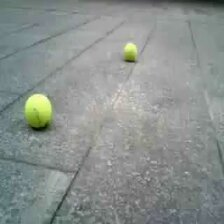tennis: (25, 94, 51, 125), (124, 43, 136, 61)
